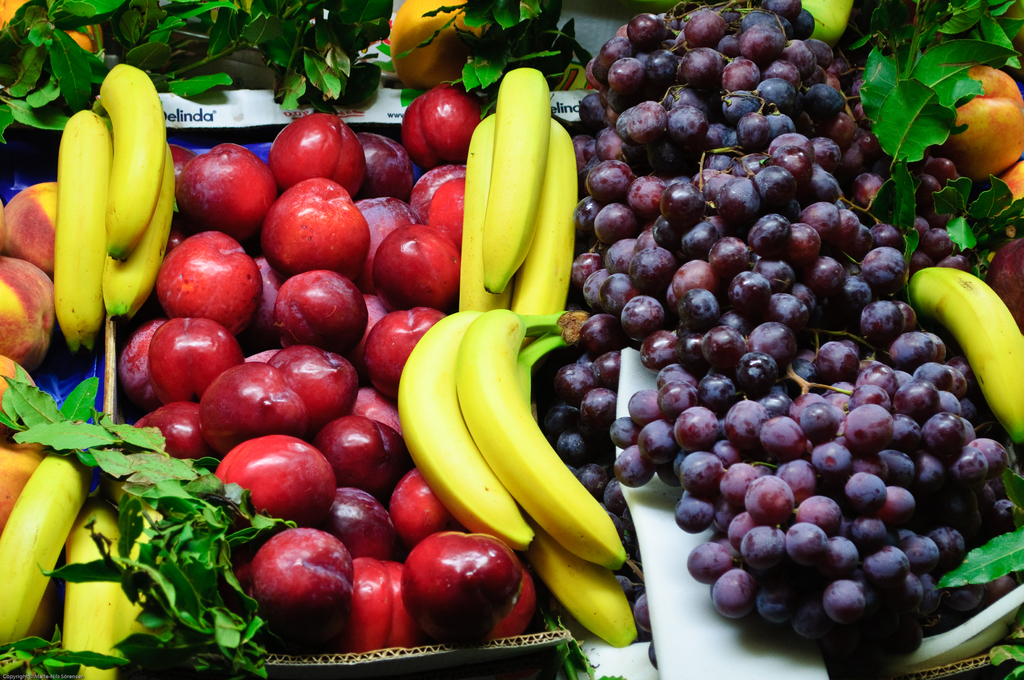Apple: (228, 525, 358, 634), (0, 250, 56, 369), (5, 178, 60, 276), (0, 437, 44, 535), (0, 352, 34, 436)
